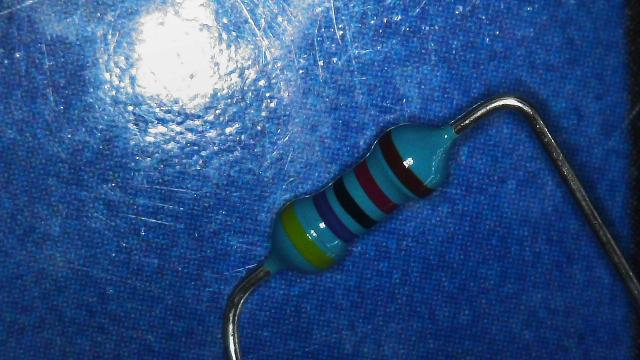black: (332, 177, 377, 228)
brown: (378, 132, 431, 197)
red: (353, 160, 398, 214)
resistor: (238, 82, 492, 315)
violet: (312, 189, 357, 242)
yellow: (280, 203, 336, 269)
